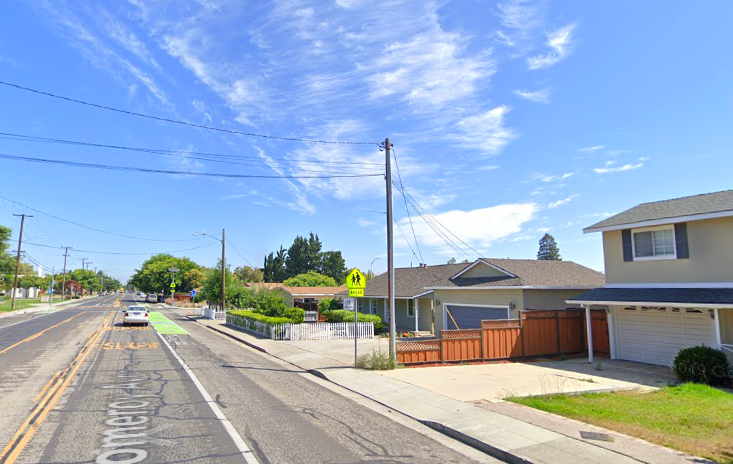utility_pole: (369, 129, 402, 185)
